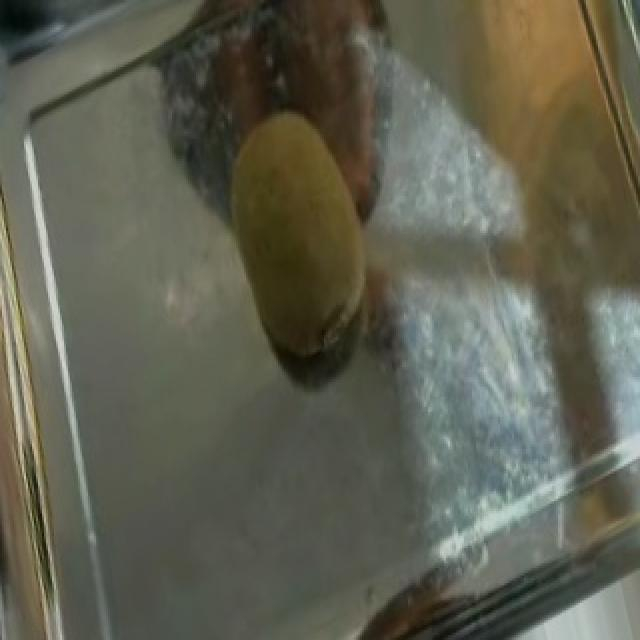Fruit: (186, 82, 426, 384), (346, 0, 636, 231)
